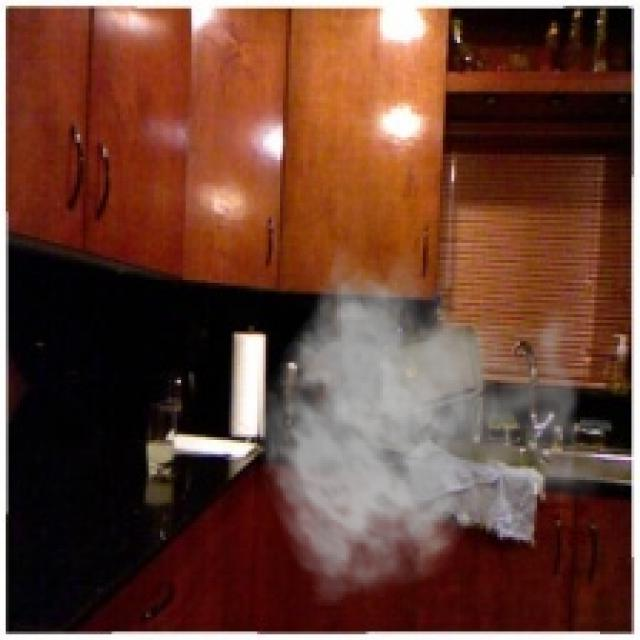smoke: (257, 240, 612, 606)
